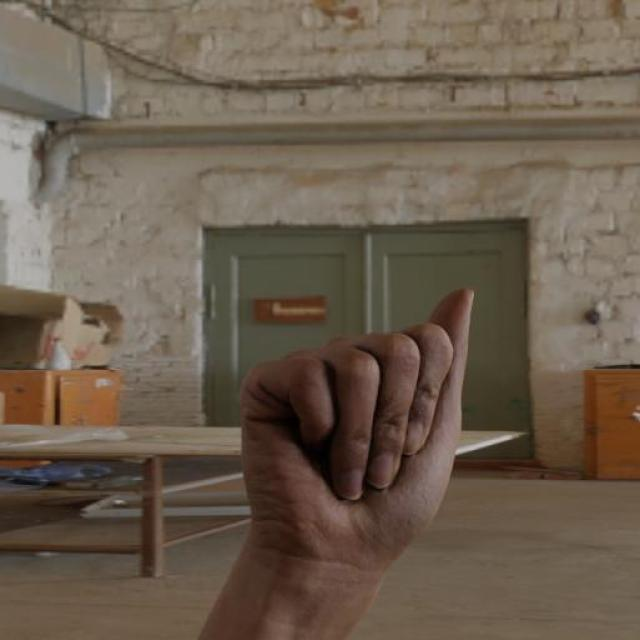A: (236, 286, 476, 566)
